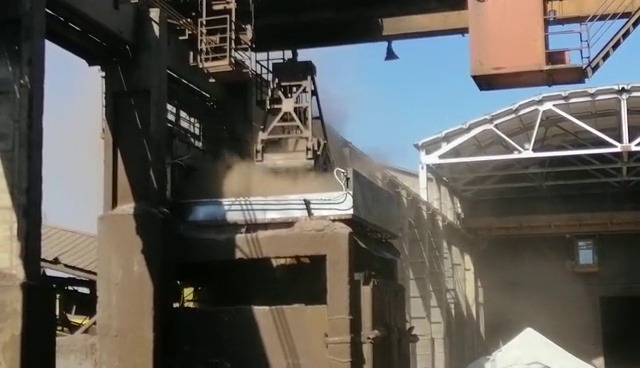dust: (217, 152, 593, 362)
grab: (248, 56, 336, 177)
